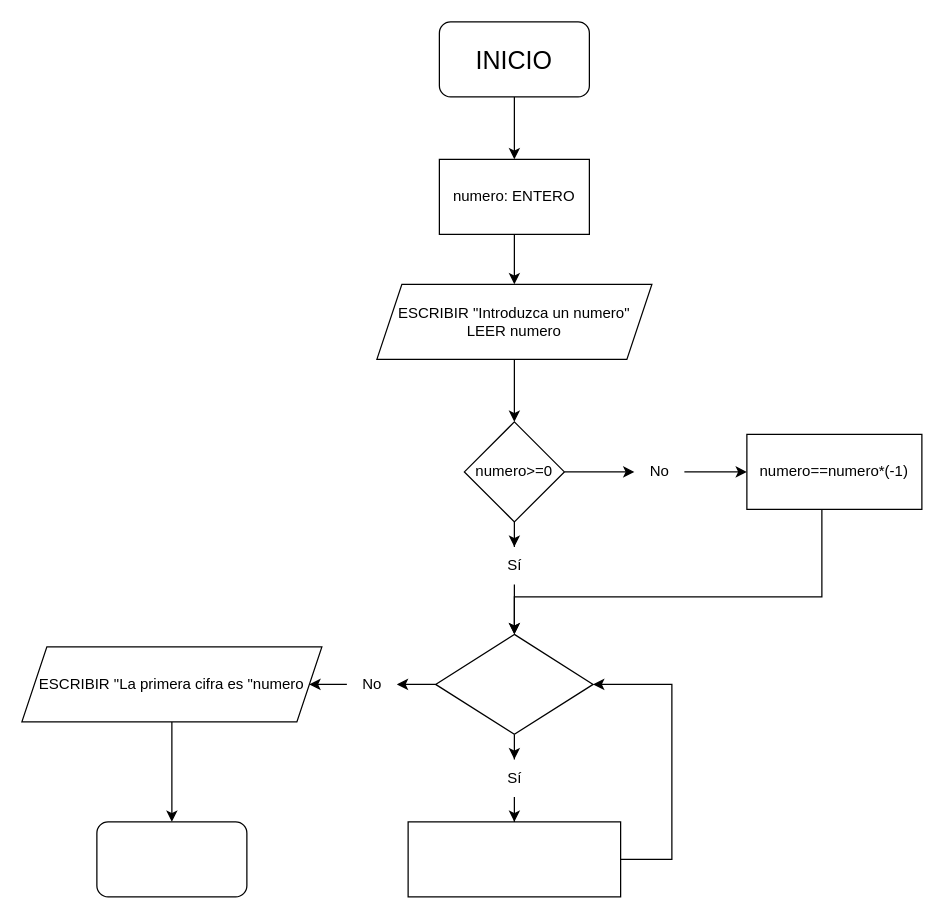
Some shapes in this 944 by 919 pixel diagram are drawn without their labels. The centre of each missing label's shape, as x and y in pixels:
FIN: point 171,859
numero==numero/10: point 514,859
numero>=10: point 513,683
